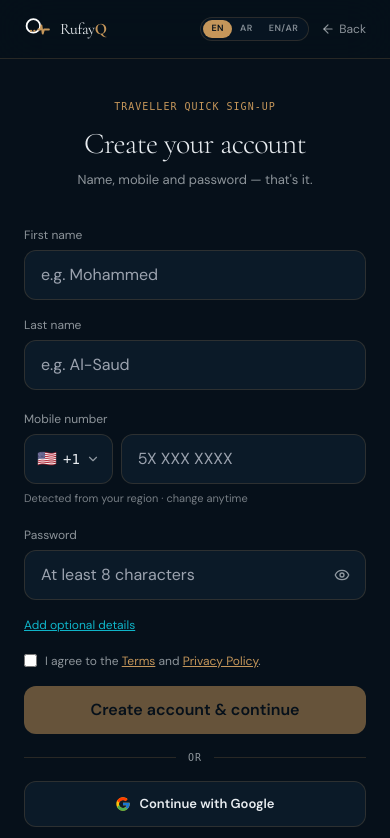
Test: QuickSignup › hides strength meter until typing then shows checklist
Type "a" into the password field with placeholder "At least 8 characters" at (195, 575), box [24,550,366,600]
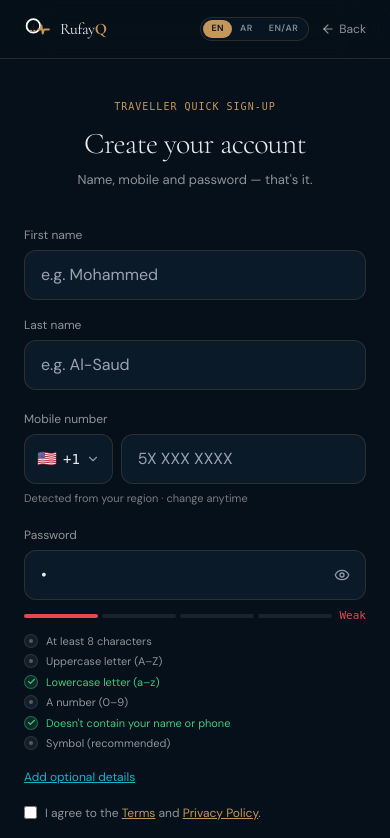
expect the element with test id "password-strength" is shown: met, box [24,608,366,752]
